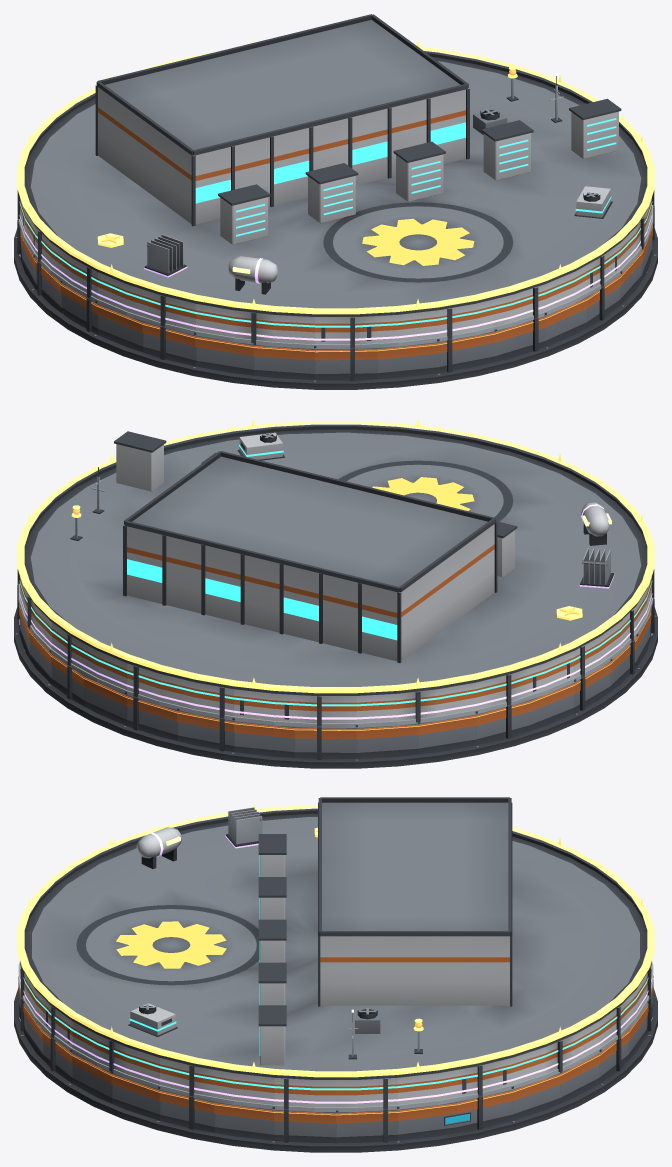
File: battery_plant_xl.glb
The picture shows the model from 3 angles, top to bottom: view 1: azimuth 30°, elevation 25°; view 2: azimuth 150°, elevation 25°; view 3: azimuth 270°, elevation 25°; orthographic projection.
Visible parts, largest first — view 1: Roof, Base, L4, Wall_21, Wall_20, Wall_22, Wall_19, Wall_23, Wall_18, Wall_24, Upper_20, Upper_21 (+19 smaller); view 2: Roof, Base, L4, Wall_11, Wall_10, Wall_09, Wall_12, Wall_08, Wall_13, Upper_10, Wall_07, Upper_11 (+21 smaller); view 3: Roof, Base, L4, Wall_00, Wall_31, Wall_30, Wall_01, Wall_29, Wall_02, Upper_00, Upper_31, Wall_28 (+19 smaller).
Boxes of the visible parts, x1=… form: Roof: x1=24, y1=14, x2=647, y2=316; Base: x1=14, y1=228, x2=657, y2=389; L4: x1=144, y1=234, x2=278, y2=294; Wall_21: x1=315, y1=348, x2=377, y2=381; Wall_20: x1=253, y1=343, x2=315, y2=380; Wall_22: x1=377, y1=342, x2=437, y2=378; Wall_19: x1=195, y1=335, x2=253, y2=375; Wall_23: x1=437, y1=331, x2=494, y2=373; Wall_18: x1=142, y1=321, x2=195, y2=366; Wall_24: x1=494, y1=316, x2=545, y2=362; Upper_20: x1=253, y1=312, x2=315, y2=344; Upper_21: x1=315, y1=316, x2=377, y2=347; Roof: x1=24, y1=424, x2=647, y2=695; Base: x1=14, y1=607, x2=657, y2=768; L4: x1=579, y1=502, x2=614, y2=588; Wall_11: x1=356, y1=723, x2=418, y2=758; Wall_10: x1=294, y1=727, x2=356, y2=759; Wall_09: x1=234, y1=721, x2=294, y2=757; Wall_12: x1=418, y1=714, x2=476, y2=754; Wall_08: x1=177, y1=708, x2=234, y2=752; Wall_13: x1=476, y1=700, x2=529, y2=745; Upper_10: x1=294, y1=695, x2=356, y2=726; Wall_07: x1=126, y1=695, x2=177, y2=740; Upper_11: x1=356, y1=691, x2=418, y2=723; Roof: x1=24, y1=797, x2=647, y2=1079; Base: x1=14, y1=988, x2=657, y2=1152; L4: x1=136, y1=807, x2=262, y2=868; Wall_00: x1=336, y1=1109, x2=397, y2=1143; Wall_31: x1=274, y1=1109, x2=335, y2=1143; Wall_30: x1=214, y1=1102, x2=274, y2=1140; Wall_01: x1=397, y1=1102, x2=457, y2=1140; Wall_29: x1=159, y1=1090, x2=214, y2=1132; Wall_02: x1=457, y1=1090, x2=512, y2=1132; Upper_00: x1=336, y1=1078, x2=397, y2=1109; Upper_31: x1=274, y1=1078, x2=335, y2=1109; Wall_28: x1=111, y1=1072, x2=159, y2=1120.
Bounding box in the file's own units: 23.15 × 5.76 × 23.15.
